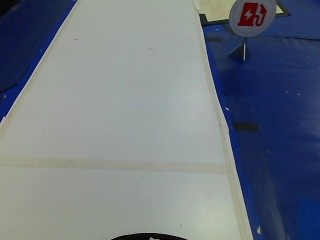battery: (234, 1, 270, 35)
